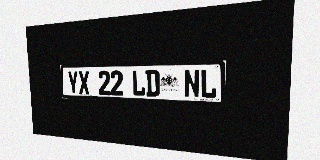2: (98, 70, 111, 95), (110, 70, 123, 95)
D: (145, 70, 160, 97)
L: (200, 69, 217, 98), (132, 70, 145, 96)
N: (184, 69, 200, 98)
X: (78, 71, 90, 94)
Y: (67, 71, 79, 94)
